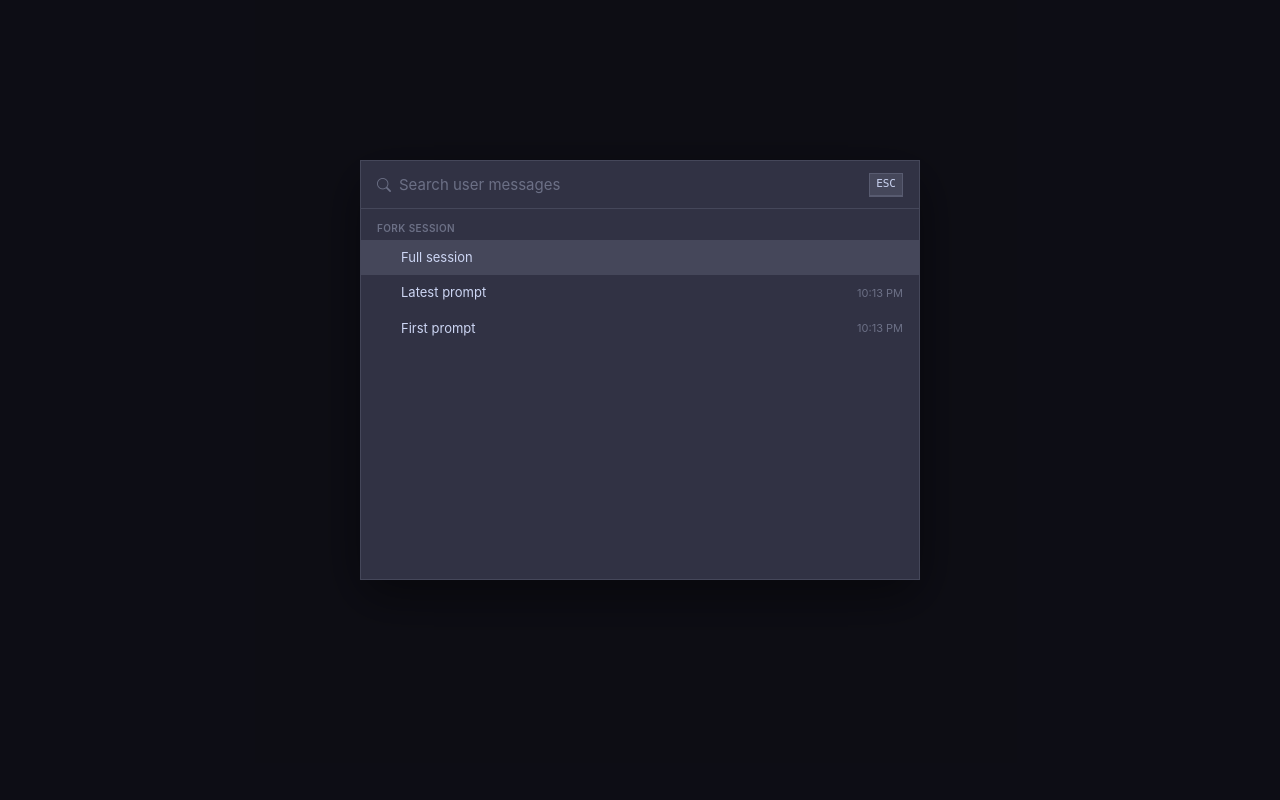
Test: UserMessagePicker fork mode › filters prompts by text
Type "latest" into the dropdown with placeholder "Search user messages" at (630,184), box [399,175,861,194]
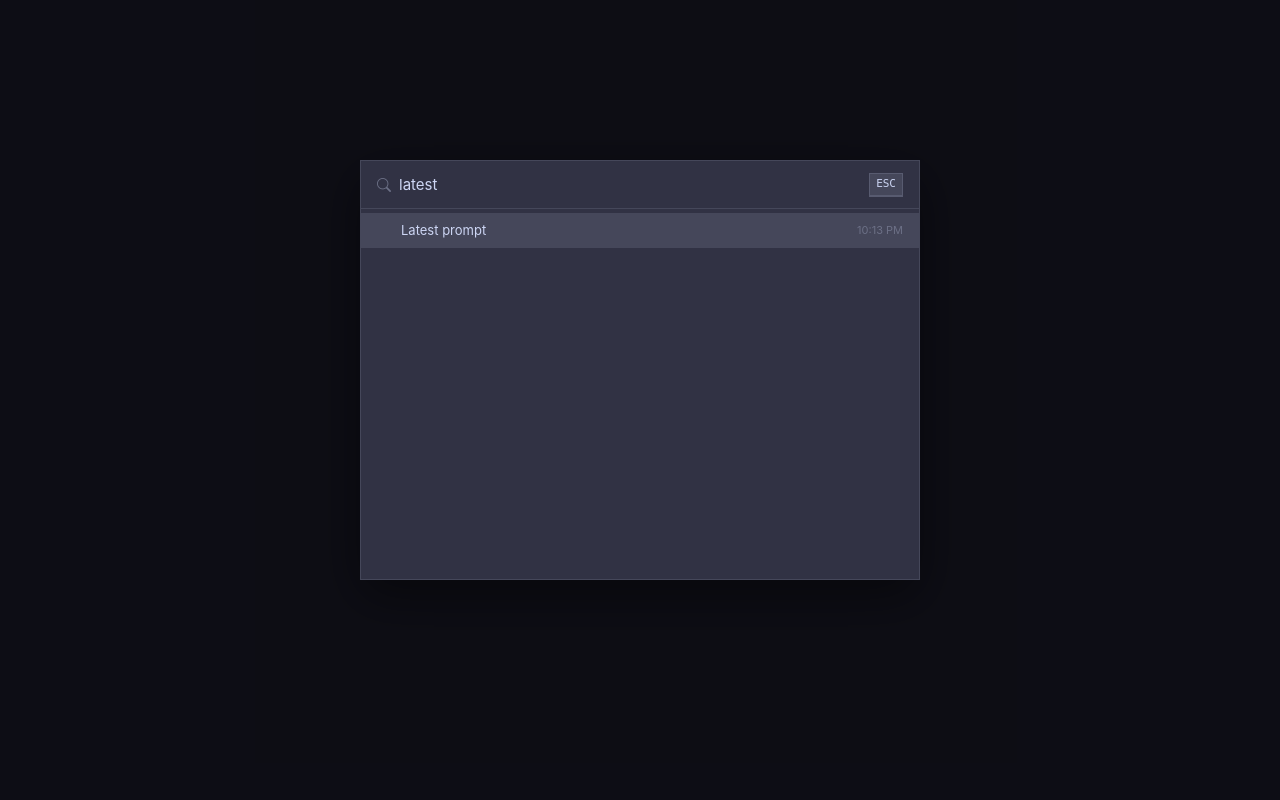
Expected: the text "Latest prompt" is shown, [401,222,486,238]
Result: the option "First prompt" is gone
